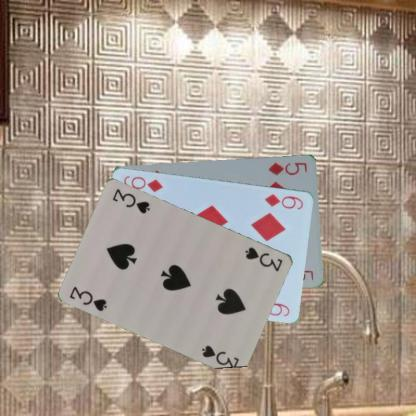3s: (243, 244, 284, 273), (67, 284, 109, 312)
5d: (266, 160, 308, 176)
6d: (262, 191, 304, 211)
